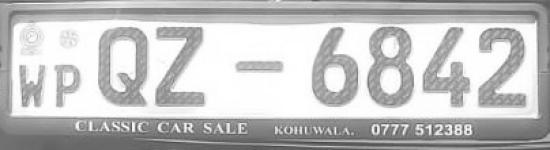-: (232, 57, 287, 78)
2: (472, 25, 532, 112)
4: (418, 22, 474, 109)
6: (303, 24, 365, 110)
8: (364, 22, 418, 112)
P: (52, 59, 84, 110)
Q: (95, 22, 153, 109)
W: (15, 58, 50, 110)
Z: (151, 22, 213, 113)
